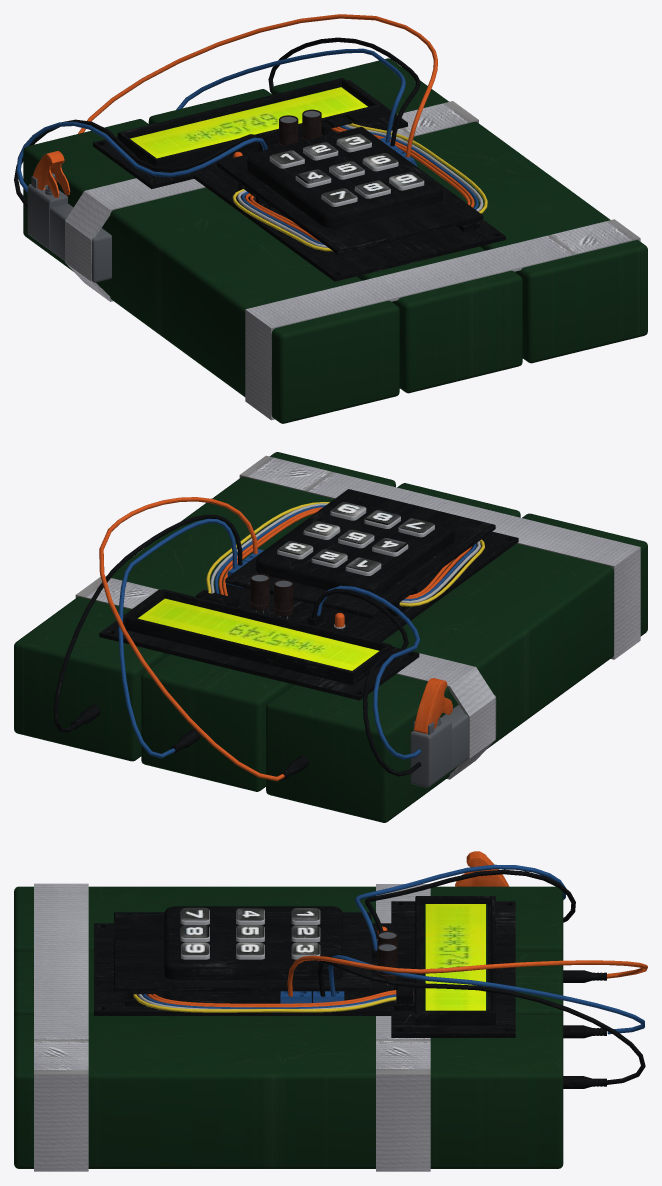
3 views of the same model, one above another, from view 1: azimuth 30°, elevation 25°; view 2: azimuth 150°, elevation 25°; view 3: azimuth 270°, elevation 25° (orthographic). The views are drawn at different scales.
Visible parts, largest first — view 1: body, screen, wire0, wire1, wire2; view 2: body, screen, wire0, wire1, wire2; view 3: body, screen, wire2, wire0, wire1.
Part boxes in pixels (x1=…): body: x1=14, y1=58, x2=647, y2=423; screen: x1=130, y1=87, x2=367, y2=158; wire0: x1=78, y1=14, x2=437, y2=157; wire1: x1=176, y1=48, x2=403, y2=142; wire2: x1=268, y1=37, x2=419, y2=146; body: x1=14, y1=452, x2=647, y2=822; screen: x1=138, y1=598, x2=378, y2=670; wire0: x1=99, y1=497, x2=284, y2=781; wire1: x1=118, y1=526, x2=237, y2=758; wire2: x1=53, y1=520, x2=242, y2=732; body: x1=14, y1=851, x2=606, y2=1171; screen: x1=425, y1=904, x2=485, y2=1010; wire2: x1=318, y1=962, x2=645, y2=1084; wire0: x1=287, y1=955, x2=647, y2=996; wire1: x1=328, y1=963, x2=644, y2=1034.
Size of the model in its own units: 0.2416 by 0.1028 by 0.3231.
11 materials, 11 textured.
